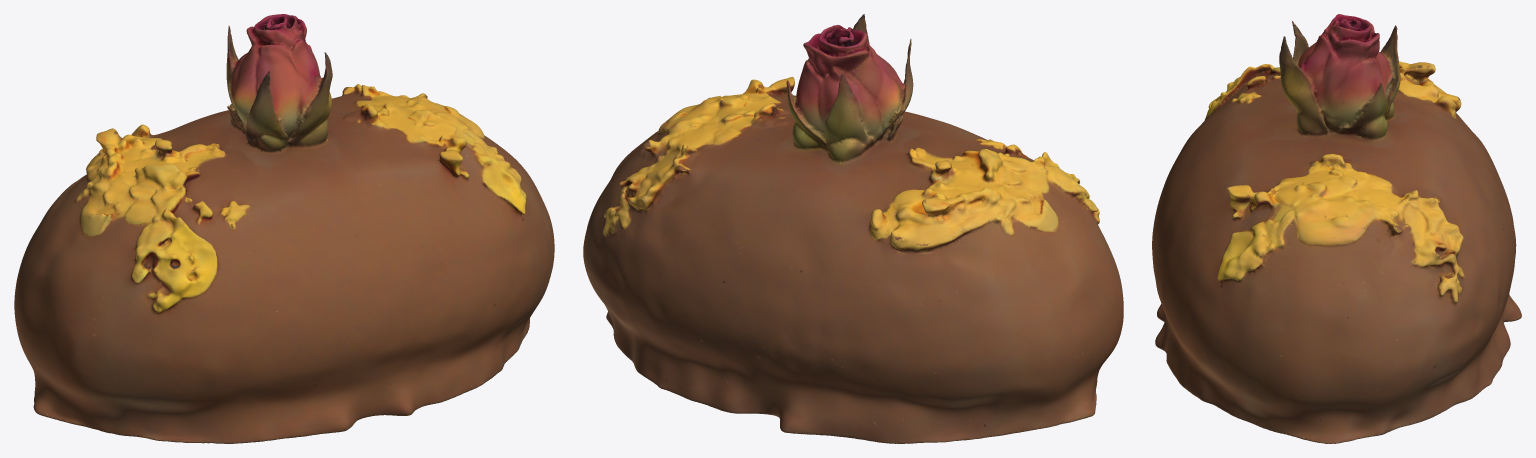
File: crunchy-gianduja.glb
3 renders of one model, left to right at view 1: azimuth 30°, elevation 25°; view 2: azimuth 150°, elevation 25°; view 3: azimuth 270°, elevation 25°, orthographic. The views are drawn at different scales.
Size of the model in its own units: 2 by 1.29 by 1.37.
1 material, 1 textured.
